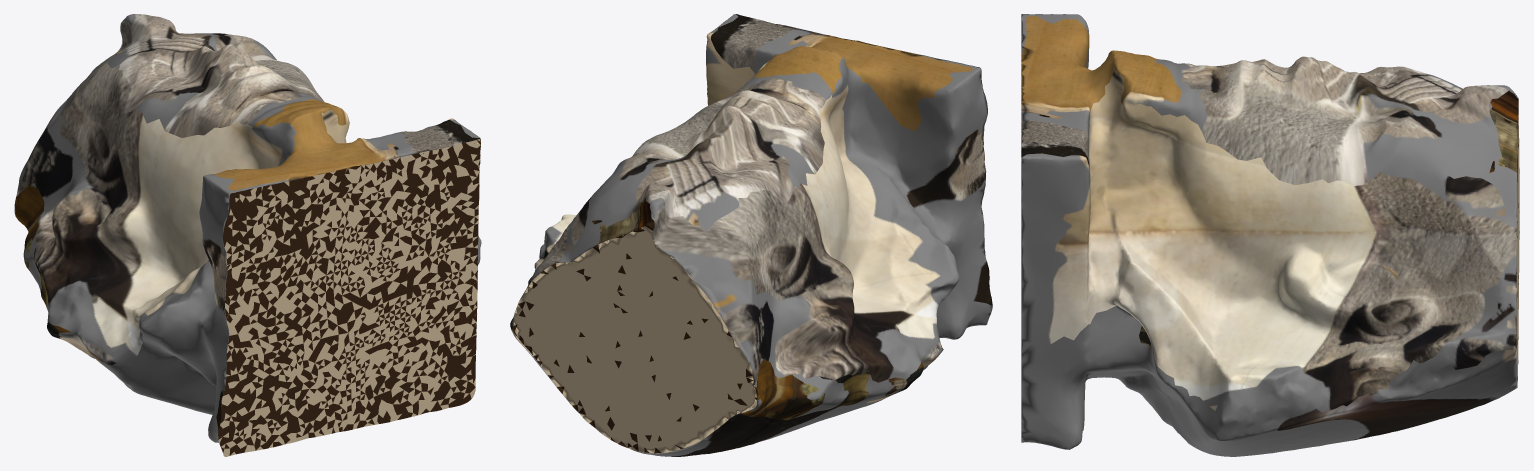
File: 01b_amenemhat3.obj
3 views of the same model, side by side, from view 1: azimuth 30°, elevation 25°; view 2: azimuth 150°, elevation 25°; view 3: azimuth 270°, elevation 25° (orthographic). The views are drawn at different scales.
Visible parts, largest first — view 1: sculpt; view 2: sculpt; view 3: sculpt.
Part boxes in pixels (bbox=[...]): sculpt: bbox=[14, 14, 481, 456]; sculpt: bbox=[510, 14, 992, 456]; sculpt: bbox=[1021, 14, 1519, 456].
Size of the model in its own units: 1.52 by 1.24 by 1.46.
